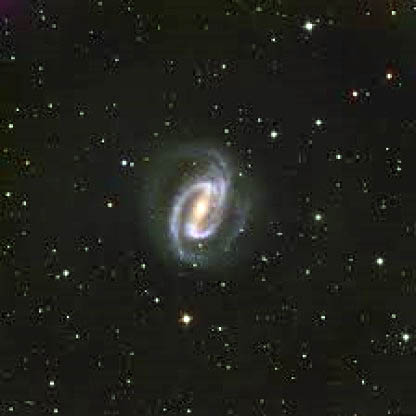NGC 1300: (133, 132, 267, 277)
